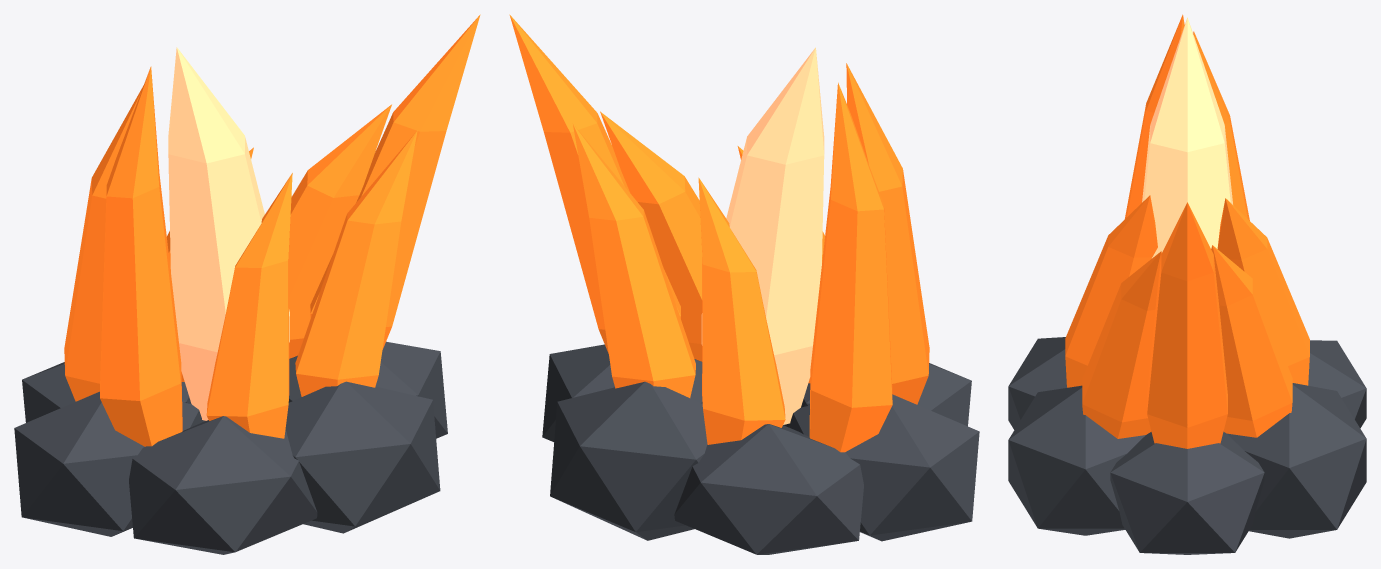
The model's file is flame_crystal_node.fbx.
The picture shows the model from 3 angles, left to right: view 1: azimuth 30°, elevation 25°; view 2: azimuth 150°, elevation 25°; view 3: azimuth 270°, elevation 25°; orthographic projection. The views are drawn at different scales.
Visible parts, largest first — view 1: Flame_Crystal.002, Flame_Bedrock.002, Flame_Glow.002; view 2: Flame_Crystal.002, Flame_Bedrock.002, Flame_Glow.002; view 3: Flame_Crystal.002, Flame_Bedrock.002, Flame_Glow.002.
Boxes of the visible parts, box(x1,y1,x2,y2) form: Flame_Crystal.002: box(64, 14, 480, 446); Flame_Bedrock.002: box(14, 341, 447, 554); Flame_Glow.002: box(168, 47, 289, 420); Flame_Crystal.002: box(509, 14, 929, 452); Flame_Bedrock.002: box(542, 344, 979, 554); Flame_Glow.002: box(701, 47, 824, 424); Flame_Crystal.002: box(1065, 14, 1309, 448); Flame_Bedrock.002: box(1008, 337, 1366, 554); Flame_Glow.002: box(1142, 17, 1232, 258).
Size of the model in its own units: 211 by 210 by 146.
